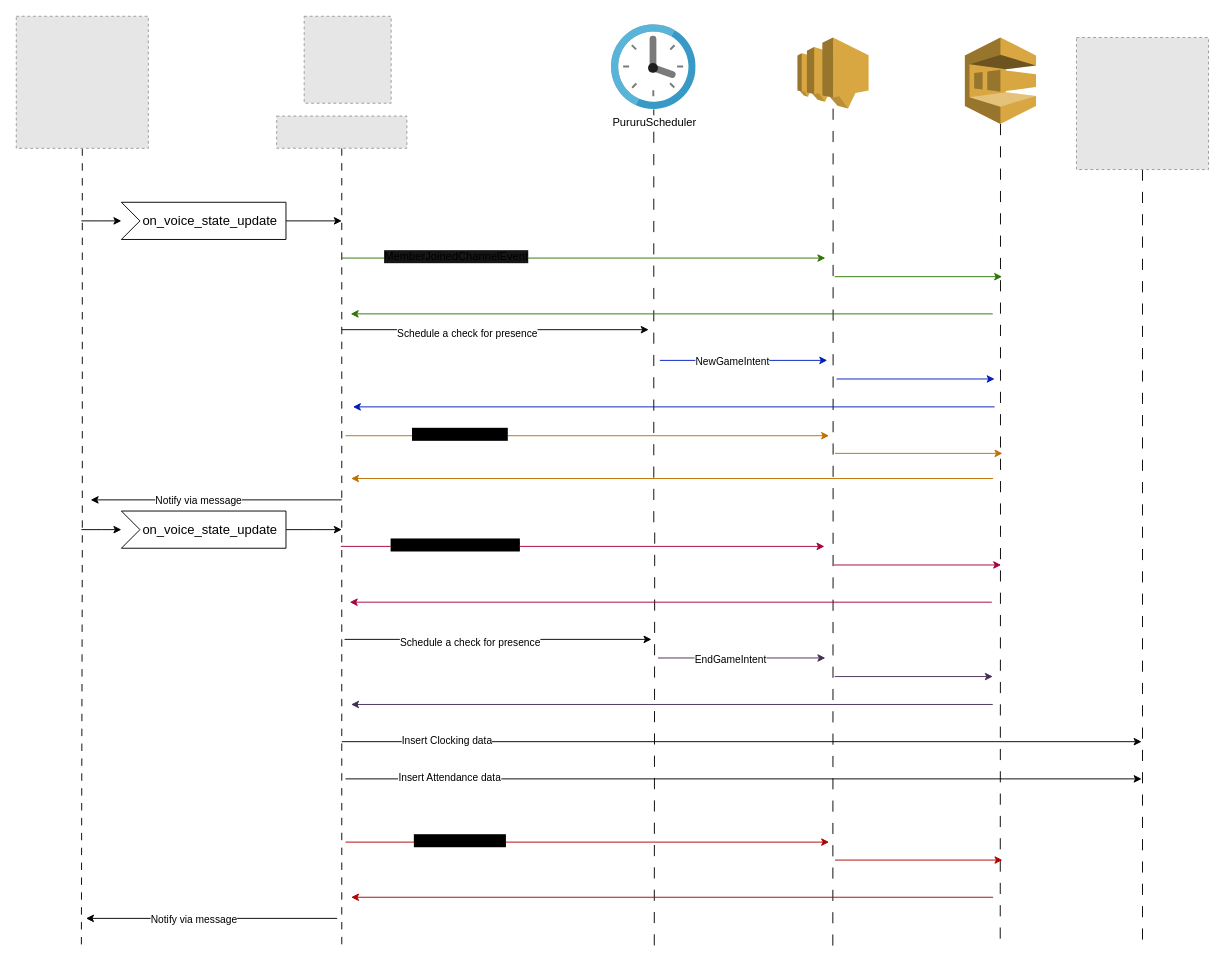
This 1225x973 diagram has some shape labels left out. Grey dashed boxes stand in for pictures. The shapes that lost their labels are listed below. From the top down, each one's centre as x and y in pixels, then its label:
the point at 833,73: SNS
the point at 1000,80: SQS - GameEvents
